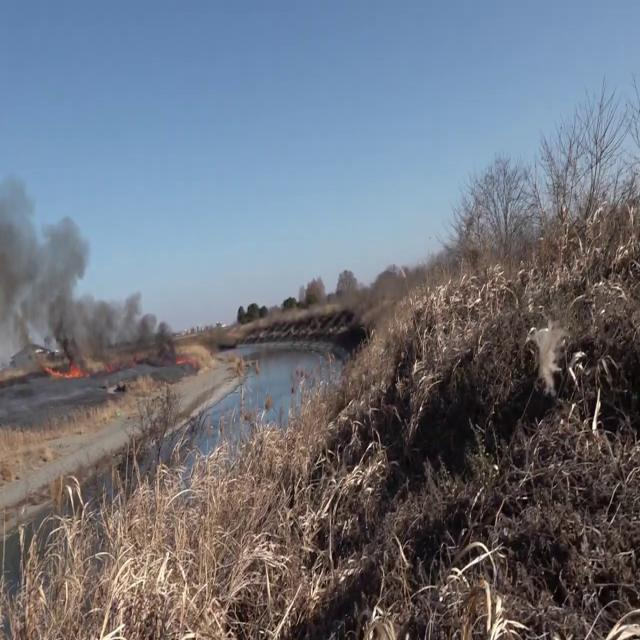Smoke: (0, 166, 172, 376)
